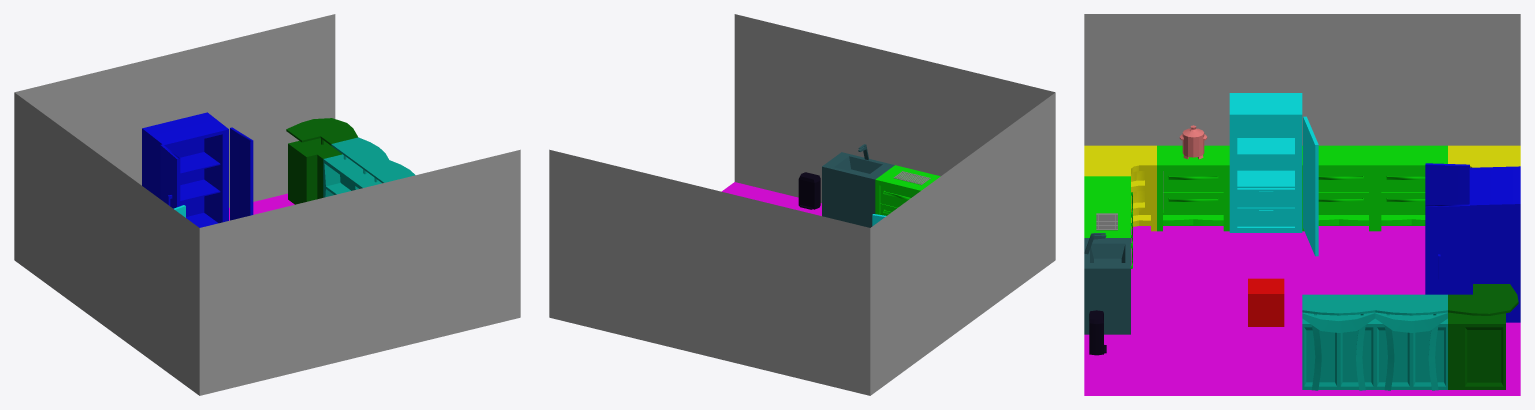
File: Test_large.0001.fbx
The picture shows the model from 3 angles, left to right: view 1: azimuth 30°, elevation 25°; view 2: azimuth 150°, elevation 25°; view 3: azimuth 270°, elevation 25°; orthographic projection. The views are drawn at different scales.
Visible parts, largest first — view 1: Boden2, Boden3, Boden4, Aufbewahrungsschrank, Kundentheke_1_ecke_low, Kundentheke_1_gerade_low, Kundentheke_1_gerade_low1, Boden; view 2: Boden4, Boden2, Boden3, Waschbecken_1_low, Gerade6, Boden, Mülleimer_1_low; view 3: Boden3, Boden, Kühlschrank_1_low, Aufbewahrungsschrank, Kundentheke_1_gerade_low1, Kundentheke_1_gerade_low, Kundentheke_1_ecke_low, Gerade4, Gerade2, Gerade1, Waschbecken_1_low, Ecke2 (+7 smaller).
Boxes of the visible parts, left/top/right/bottom form: Boden2: left=199, top=149, right=520, bottom=395; Boden3: left=14, top=92, right=199, bottom=395; Boden4: left=15, top=14, right=335, bottom=207; Aufbewahrungsschrank: left=142, top=112, right=253, bottom=227; Kundentheke_1_ecke_low: left=286, top=118, right=357, bottom=204; Kundentheke_1_gerade_low: left=323, top=137, right=388, bottom=197; Kundentheke_1_gerade_low1: left=354, top=160, right=415, bottom=189; Boden: left=229, top=193, right=294, bottom=220; Boden4: left=549, top=149, right=870, bottom=395; Boden2: left=734, top=14, right=1054, bottom=203; Boden3: left=870, top=92, right=1055, bottom=395; Waschbecken_1_low: left=822, top=144, right=894, bottom=227; Gerade6: left=875, top=165, right=940, bottom=215; Boden: left=722, top=182, right=821, bottom=215; Mülleimer_1_low: left=798, top=172, right=820, bottom=209; Boden3: left=1084, top=14, right=1520, bottom=209; Boden: left=1084, top=226, right=1520, bottom=395; Kühlschrank_1_low: left=1229, top=93, right=1318, bottom=256; Aufbewahrungsschrank: left=1425, top=163, right=1520, bottom=322; Kundentheke_1_gerade_low1: left=1302, top=294, right=1375, bottom=390; Kundentheke_1_gerade_low: left=1375, top=294, right=1447, bottom=390; Kundentheke_1_ecke_low: left=1448, top=284, right=1518, bottom=389; Gerade4: left=1157, top=145, right=1229, bottom=231; Gerade2: left=1302, top=145, right=1375, bottom=231; Gerade1: left=1375, top=145, right=1447, bottom=231; Waschbecken_1_low: left=1084, top=233, right=1130, bottom=334; Ecke2: left=1084, top=145, right=1156, bottom=231.
Bounding box in the file's own units: 6 × 3 × 6.
